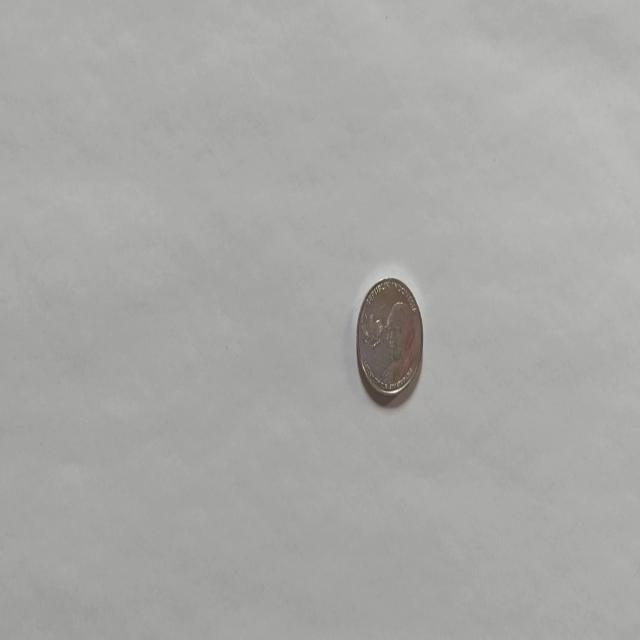lima ratus rupiah: (355, 274, 423, 402)
